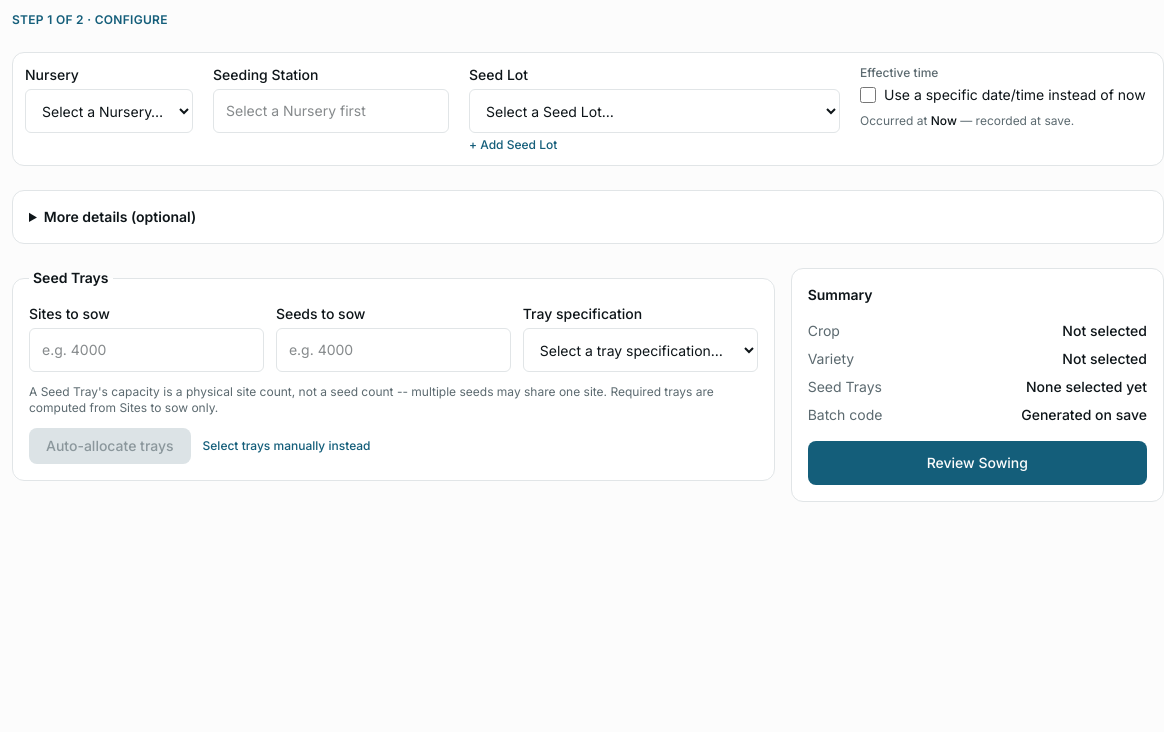
SowingForm › resolves the Seeding Station automatically once a Nursery is selected
The image size is (1164, 732).
Select "NUR-01" in the dropdown labelled "Nursery". click: (109, 111)
box: [25,89,193,133]
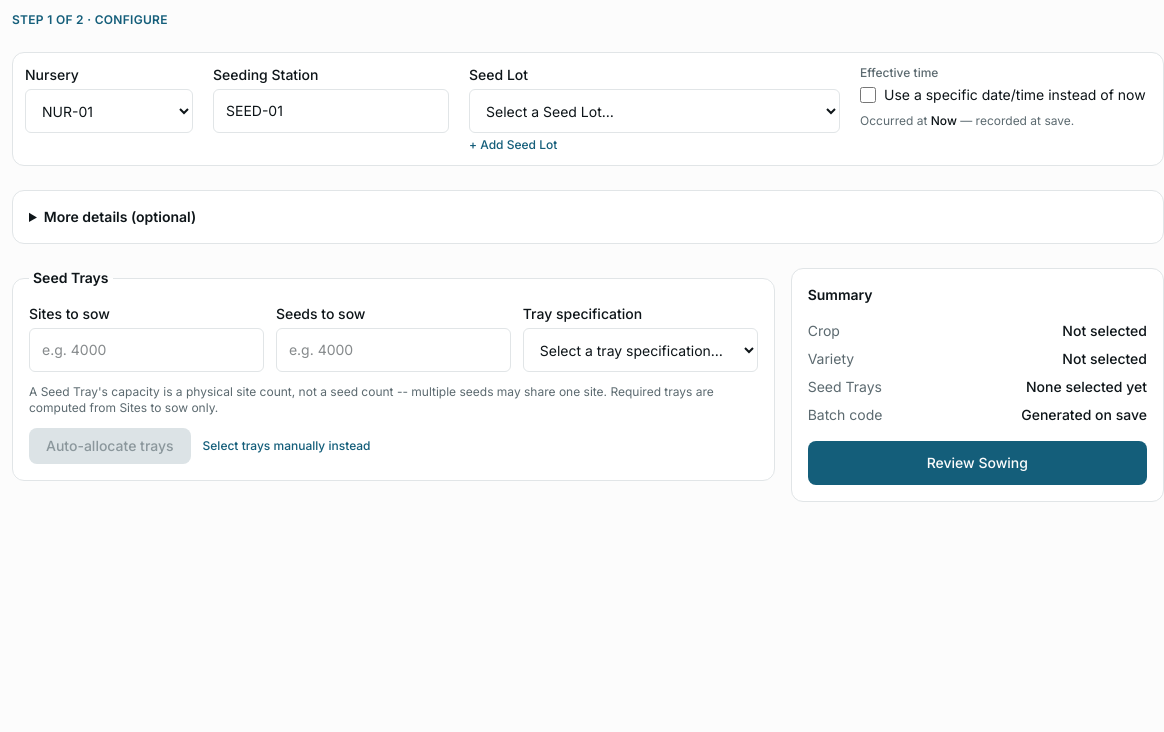
Expected: the field showing "SEED-01" is shown, [213,89,449,133]
